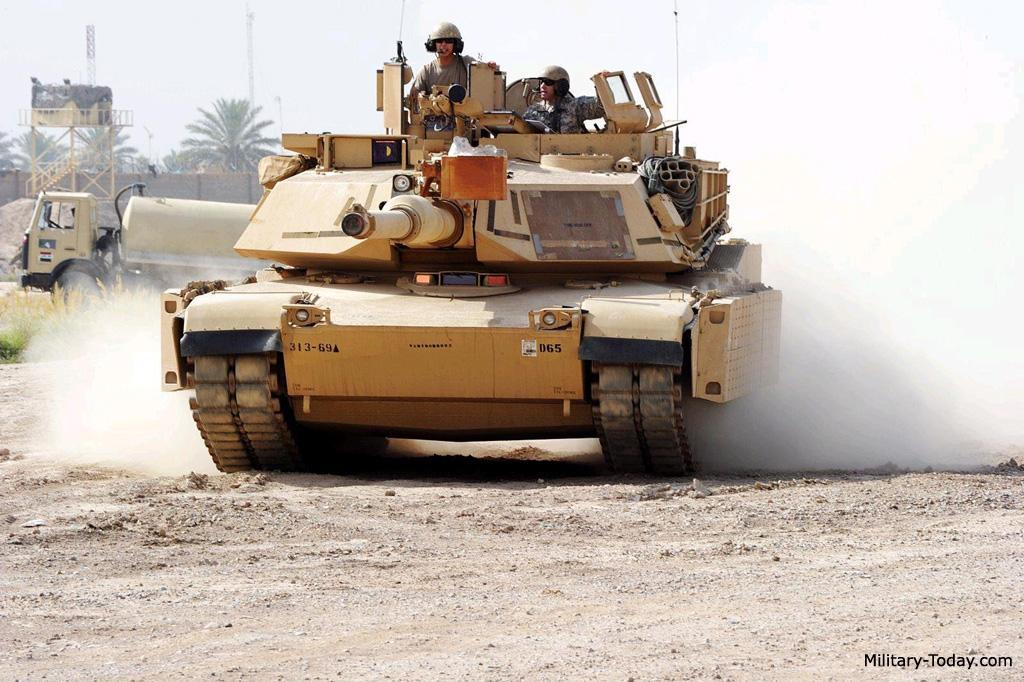tank: (161, 48, 787, 476)
truck: (15, 185, 283, 313)
